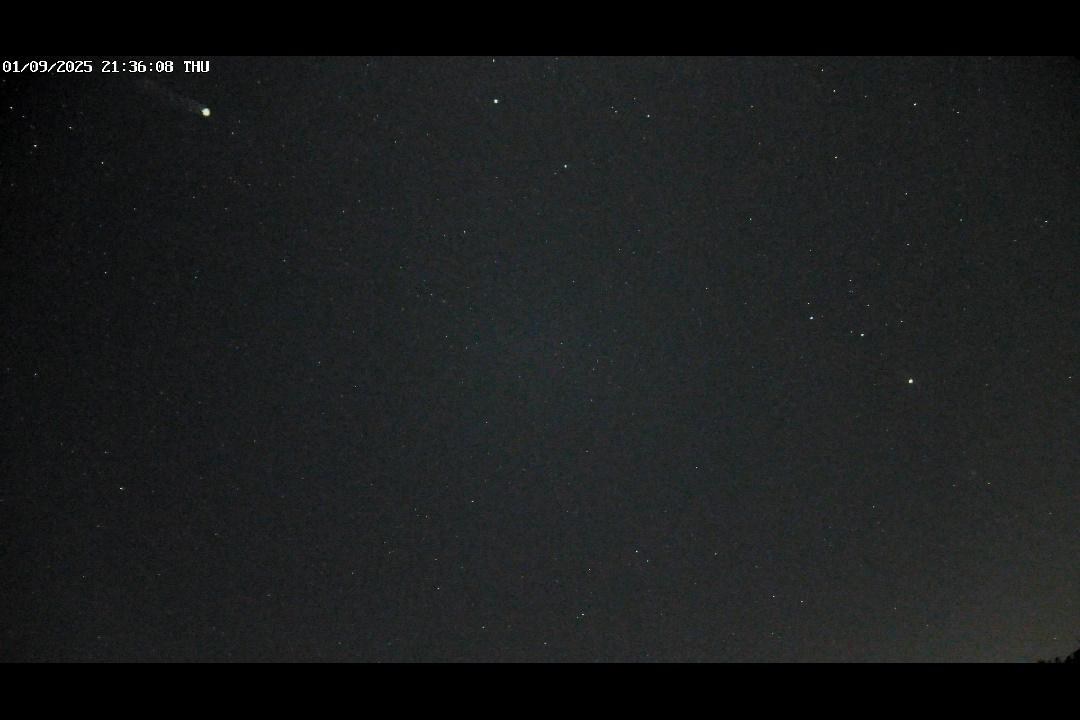Plane: (155, 92, 217, 119), (882, 365, 925, 392)
